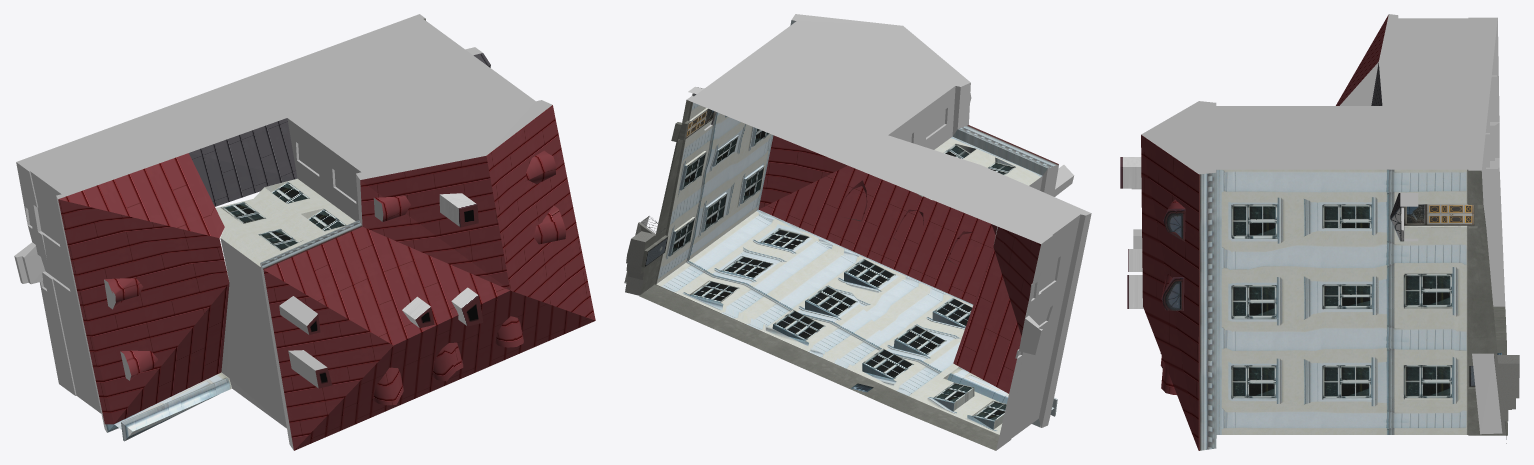
The model's file is Toom-Kooli_1-origo.obj.
3 views of the same model, side by side, from view 1: azimuth 30°, elevation 25°; view 2: azimuth 150°, elevation 25°; view 3: azimuth 270°, elevation 25° (orthographic). The views are drawn at different scales.
Visible parts, largest first — view 1: Toom_Kooli_1; view 2: Toom_Kooli_1; view 3: Toom_Kooli_1.
Part boxes in pixels (bbox=[...]): Toom_Kooli_1: bbox=[14, 14, 595, 450]; Toom_Kooli_1: bbox=[624, 14, 1091, 450]; Toom_Kooli_1: bbox=[1120, 14, 1519, 450].
Size of the model in its own units: 25.56 by 16 by 17.15.
